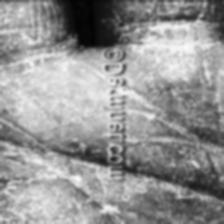Toxin: (128, 0, 222, 200), (0, 0, 64, 224), (72, 118, 107, 218)
